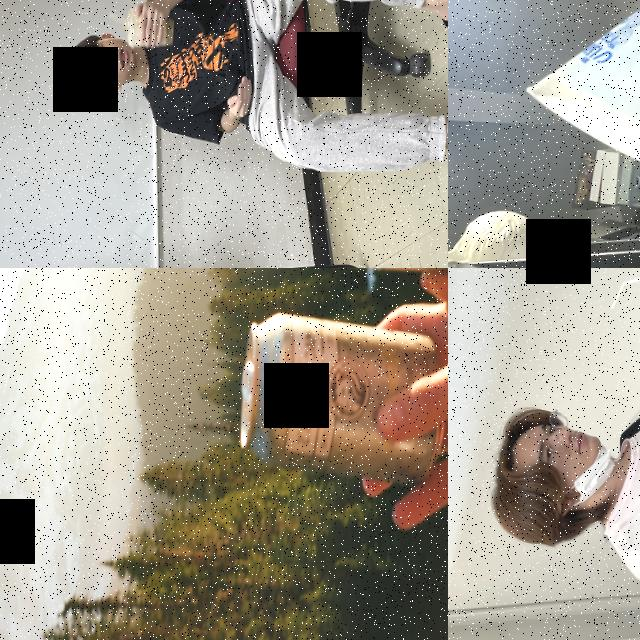can: (239, 311, 446, 484)
cup: (524, 0, 640, 167), (124, 8, 175, 48)
